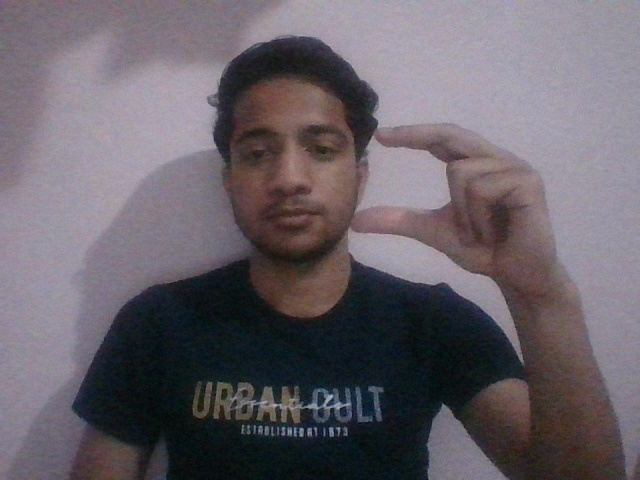no: (352, 127, 588, 287)
